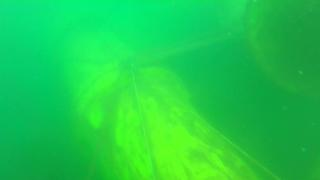pipe: (50, 17, 263, 179), (246, 1, 320, 102)
